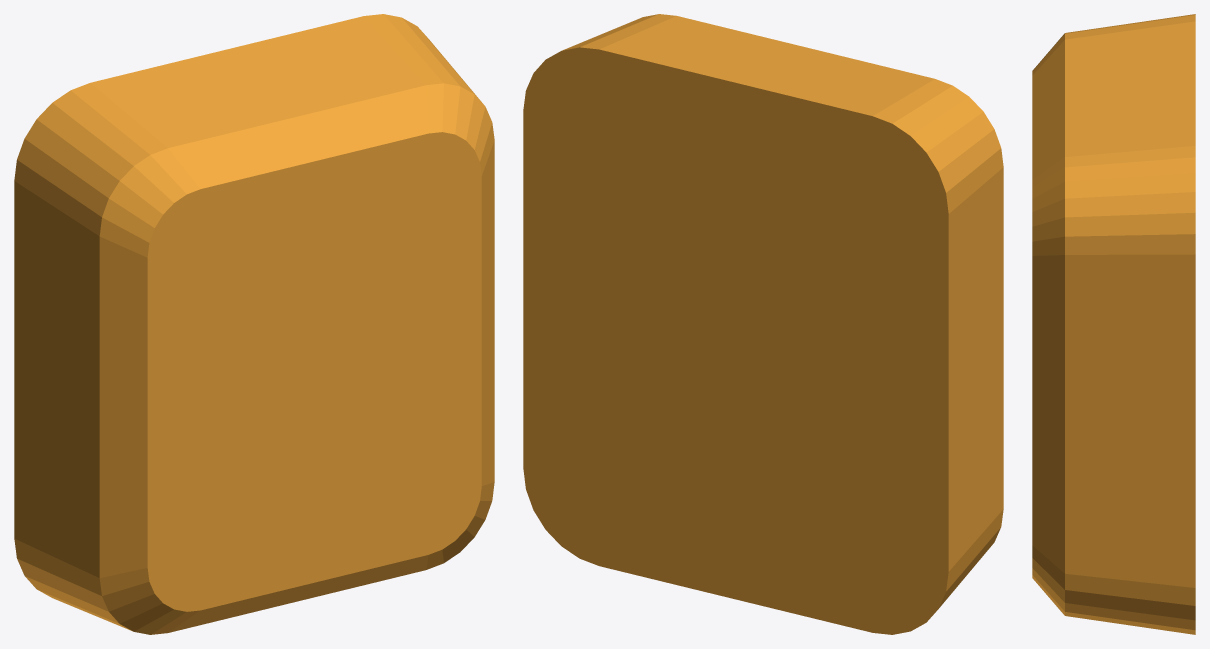
The model's file is SM_Main_Corps.obj.
3 renders of one model, left to right at view 1: azimuth 30°, elevation 25°; view 2: azimuth 150°, elevation 25°; view 3: azimuth 270°, elevation 25°, orthographic. The views are drawn at different scales.
Bounding box in the file's own units: 5600 × 6500 × 2000.
